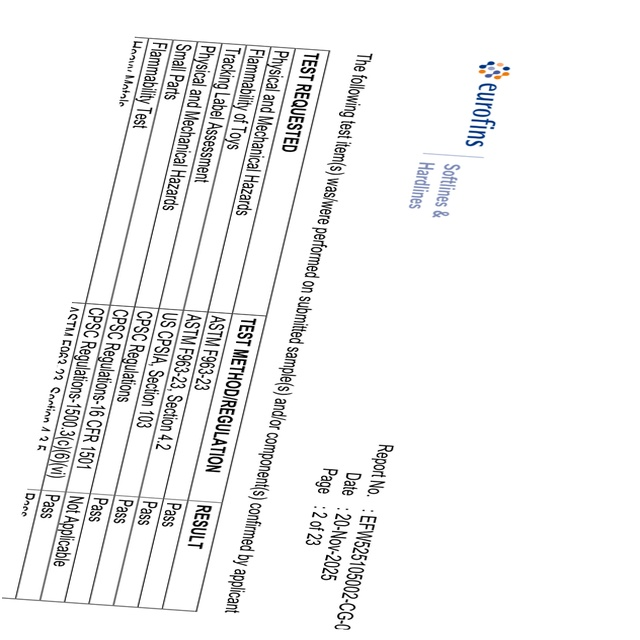eurofins: (463, 55, 513, 152)
